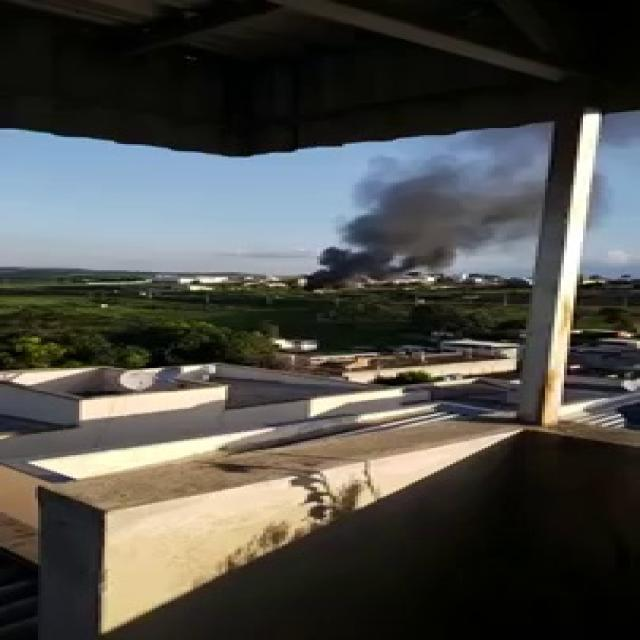Smoke: (288, 80, 640, 288)
